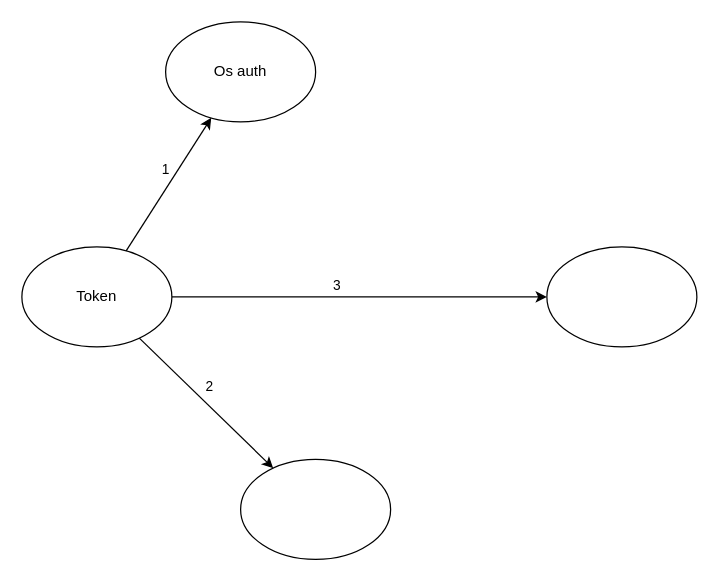
Image size: 719x581. Some labels were removed from this diagram. Each missing label, with the centre of its shape:
Login: the point at 315,508
VM: the point at 621,296
